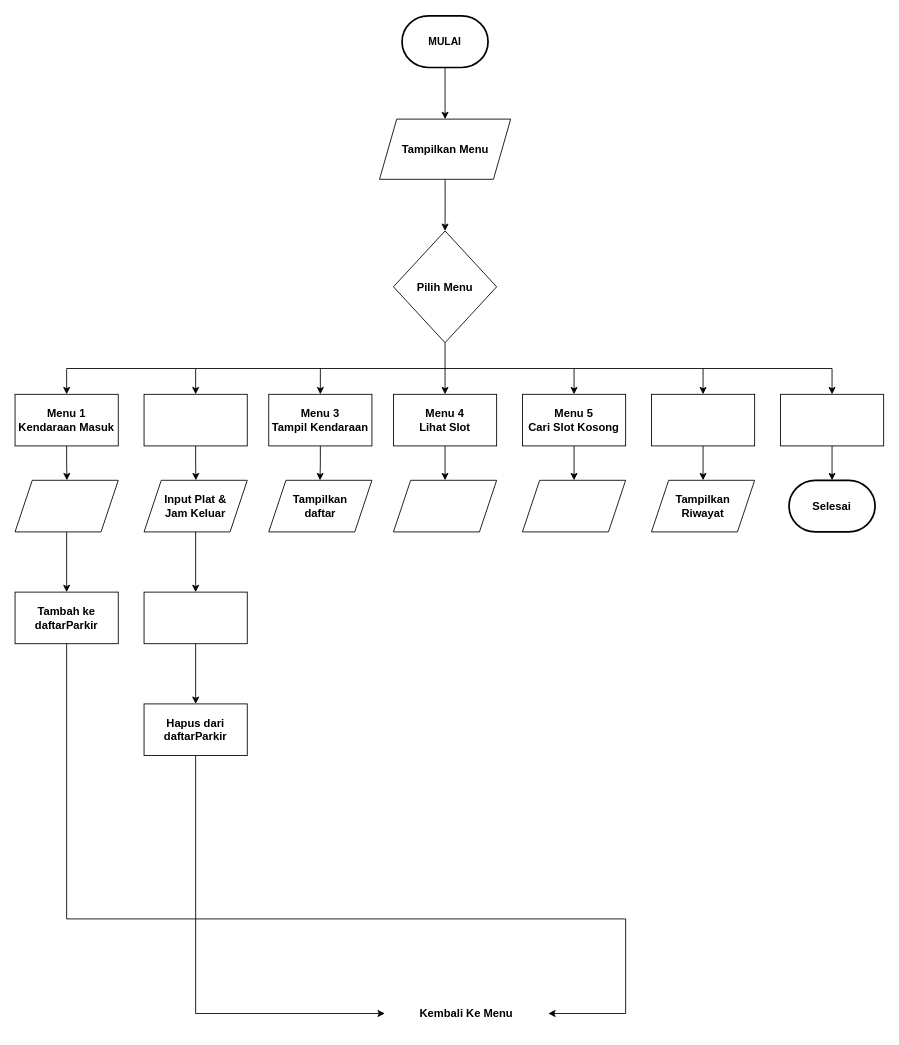
The diagram is 899 pixels wide and 1045 high, and some of its shapes have lost their labels. The shapes that lost their labels are listed below. From the top down, each one's centre as x and y in pixels, then its label:
At pixel 195 419: "Menu 2 Kendaraan Keluar".
At pixel 703 419: "Menu 6 Tampil Riwayat".
At pixel 832 419: "Menu 0 Keluar".
At pixel 66 505: "Input Data Kendaraan".
At pixel 445 505: "Tampilkan Status Slot".
At pixel 574 505: "Tampilkan Slot Kosong".
At pixel 195 617: "Simpan ke Riwayat".
